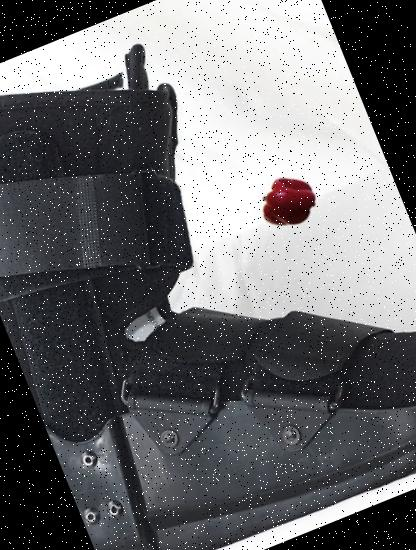Pepper: (254, 168, 324, 237)
